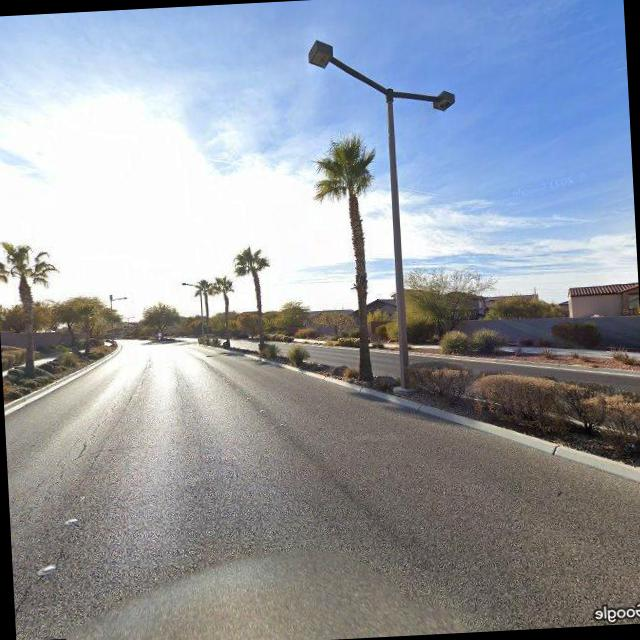pothole: (10, 398, 129, 512)
